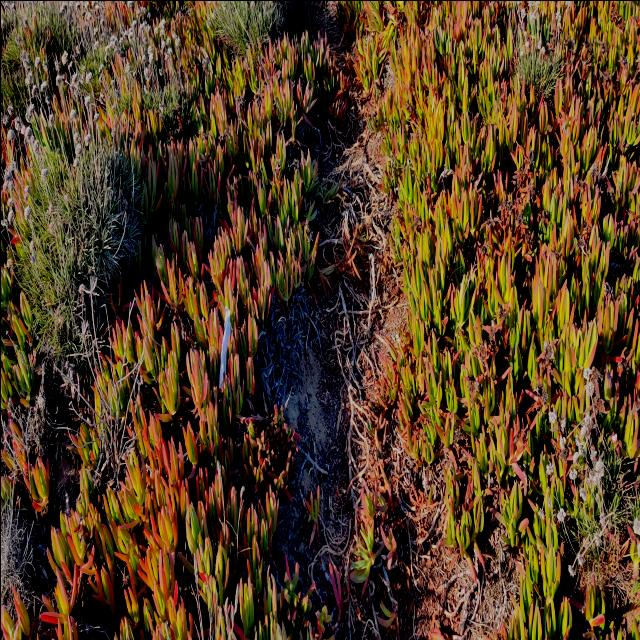Unlabeled litter: (218, 305, 229, 387)
